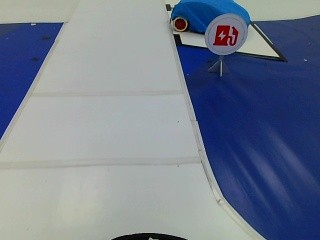battery: (204, 17, 246, 49)
car: (167, 0, 253, 35)
